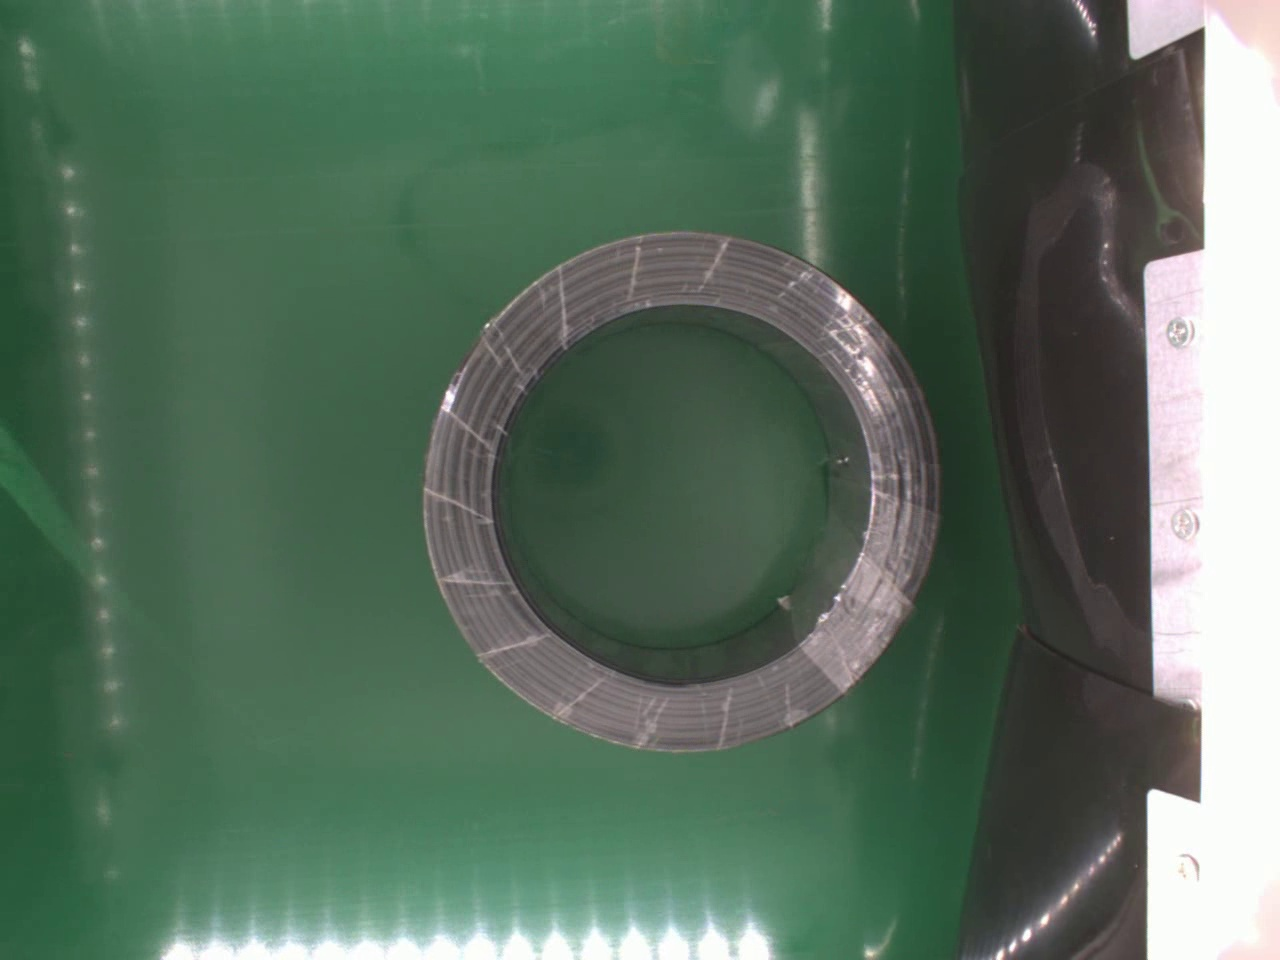black: (414, 228, 955, 769)
